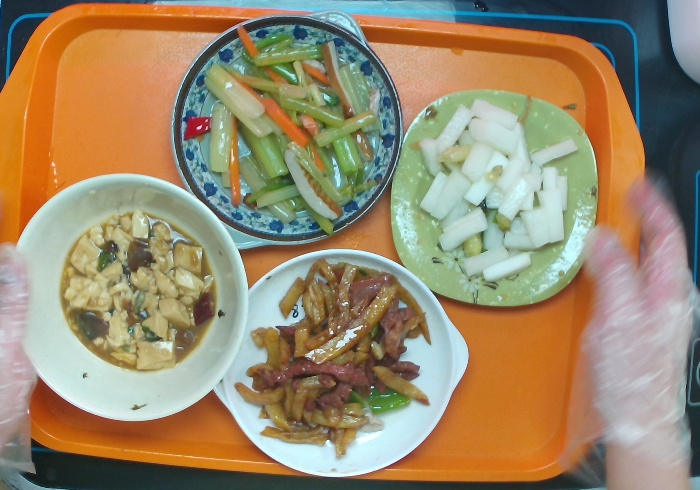NLDX-Bai_Se_Shuang_Er_Die: (213, 245, 471, 479)
NLDX-Bai_Se_Yuan_Wan: (7, 168, 253, 422)
NLDX-Lv_Hua_Fang_Die: (387, 84, 602, 310)
NLDX-Qing_Hua_Shuang_Er_Die: (170, 4, 405, 247)
